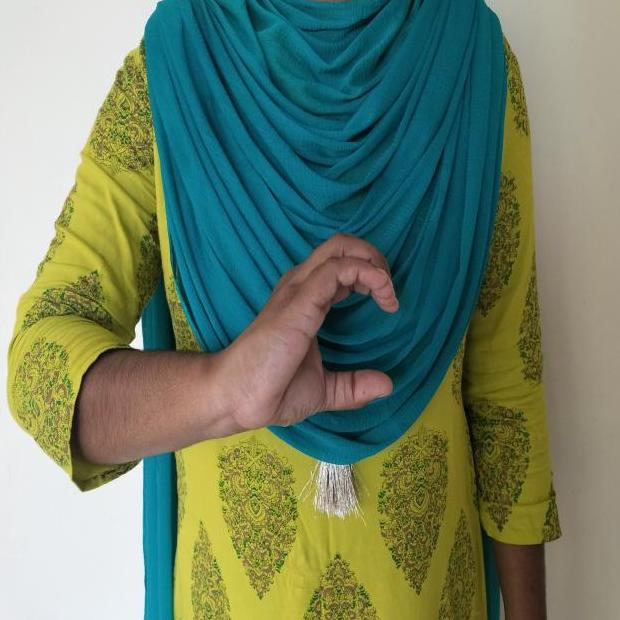B: (225, 222, 404, 450)
